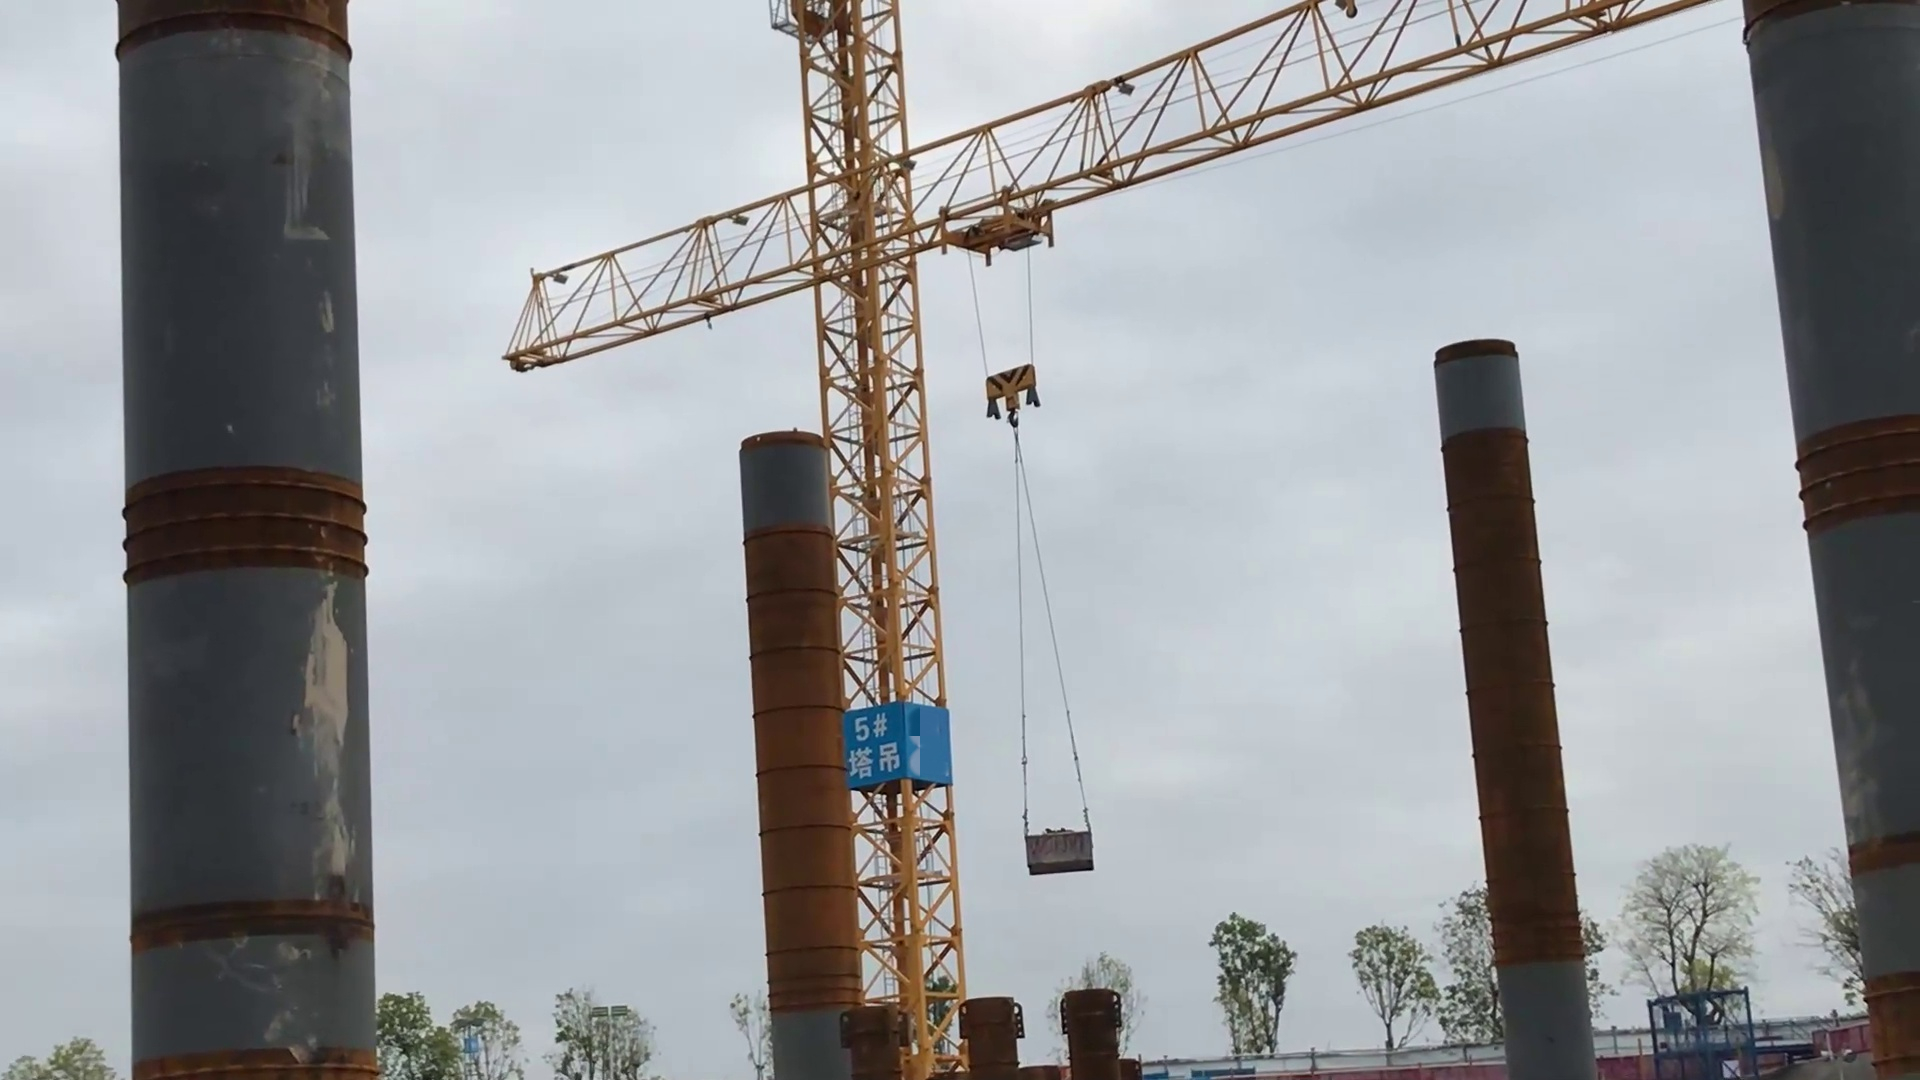hook: (971, 363, 1059, 431)
